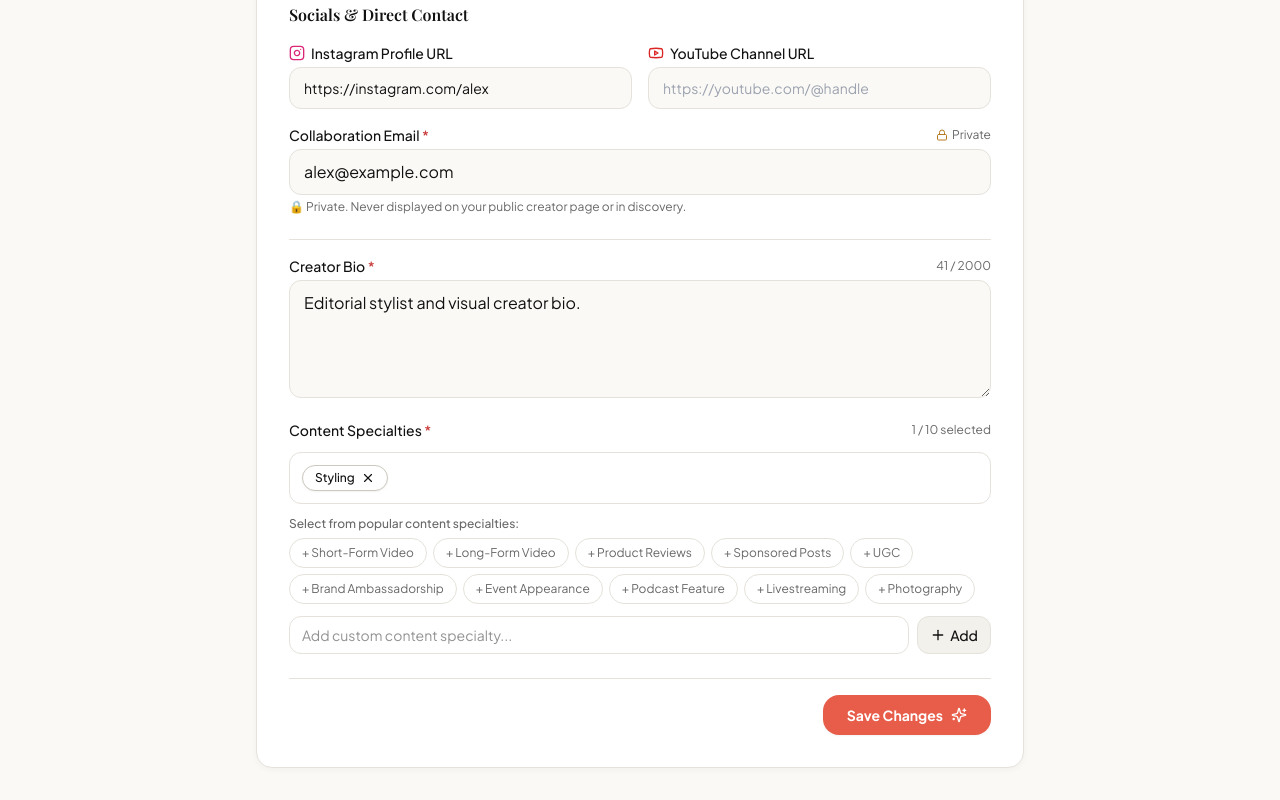
it: Phase 16 Part 3 — Toast Mutation Feedback Integration Suite › 2. Profile Save Toasts › shows "Profile updated successfully" toast on creator profile update
(page scrolled)
Click the button "Save Changes".
click(907, 715)  # box left=823, top=695, right=991, bottom=735
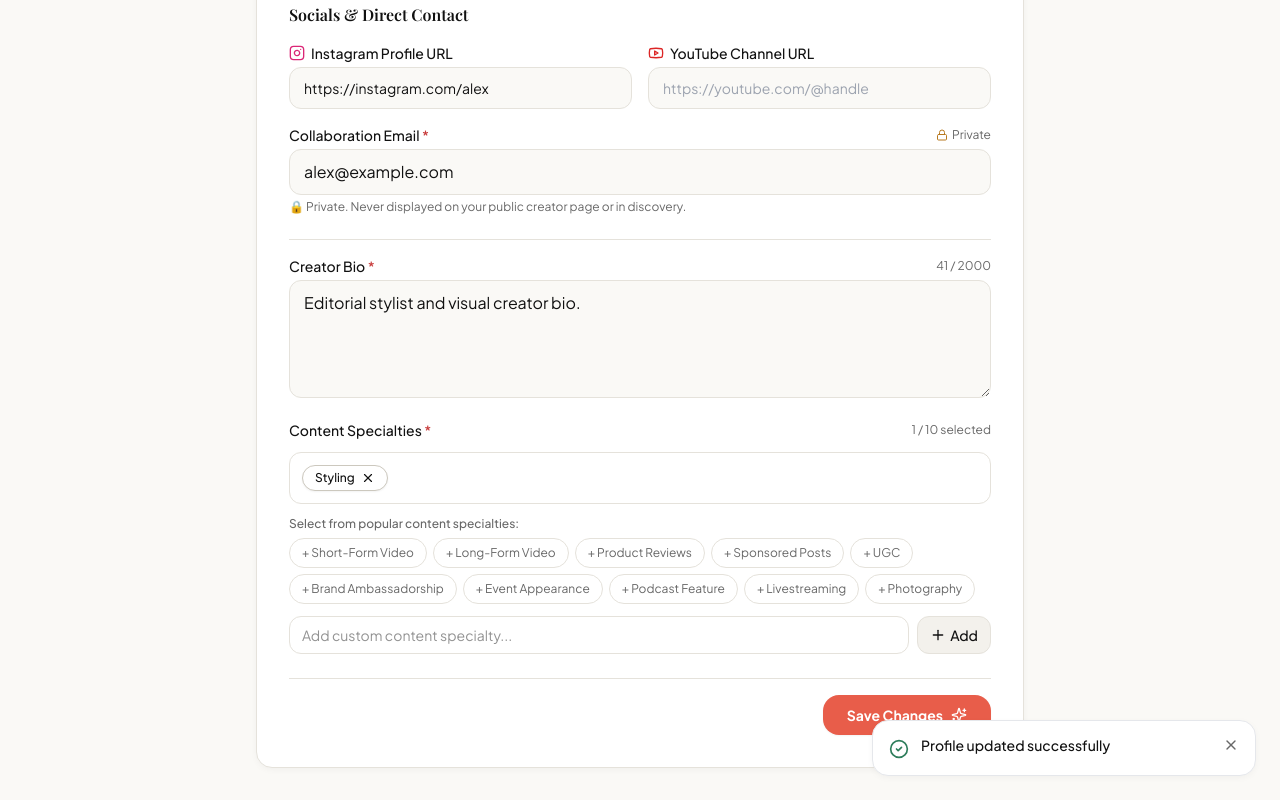
Result: the text "Profile updated successfully" is shown at left=921, top=736, right=1110, bottom=754
